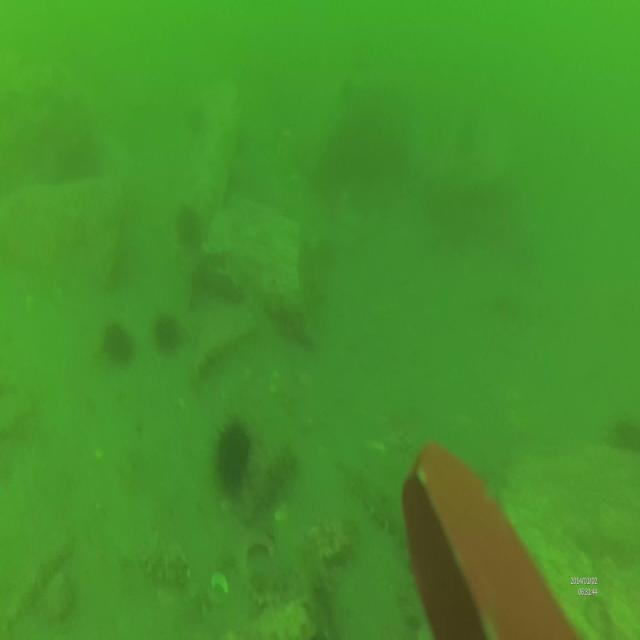echinus: (214, 415, 252, 503), (103, 321, 135, 367), (152, 311, 180, 357)
holothurian: (338, 452, 421, 550), (221, 576, 324, 640)
